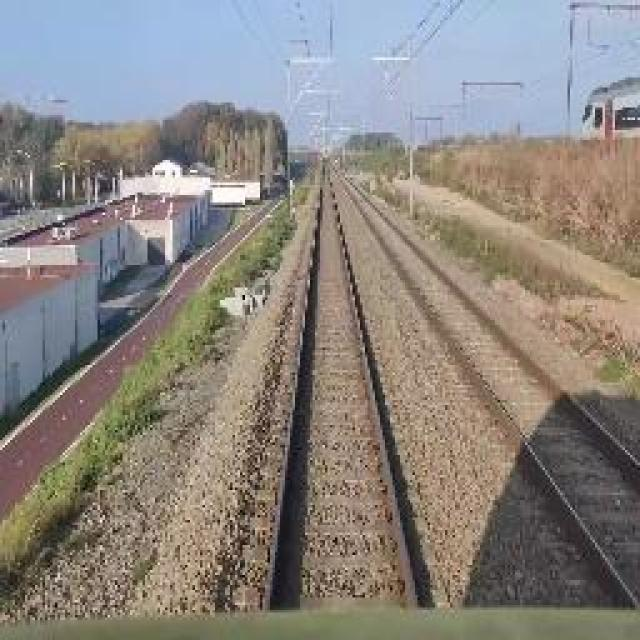rail: (235, 160, 448, 613)
